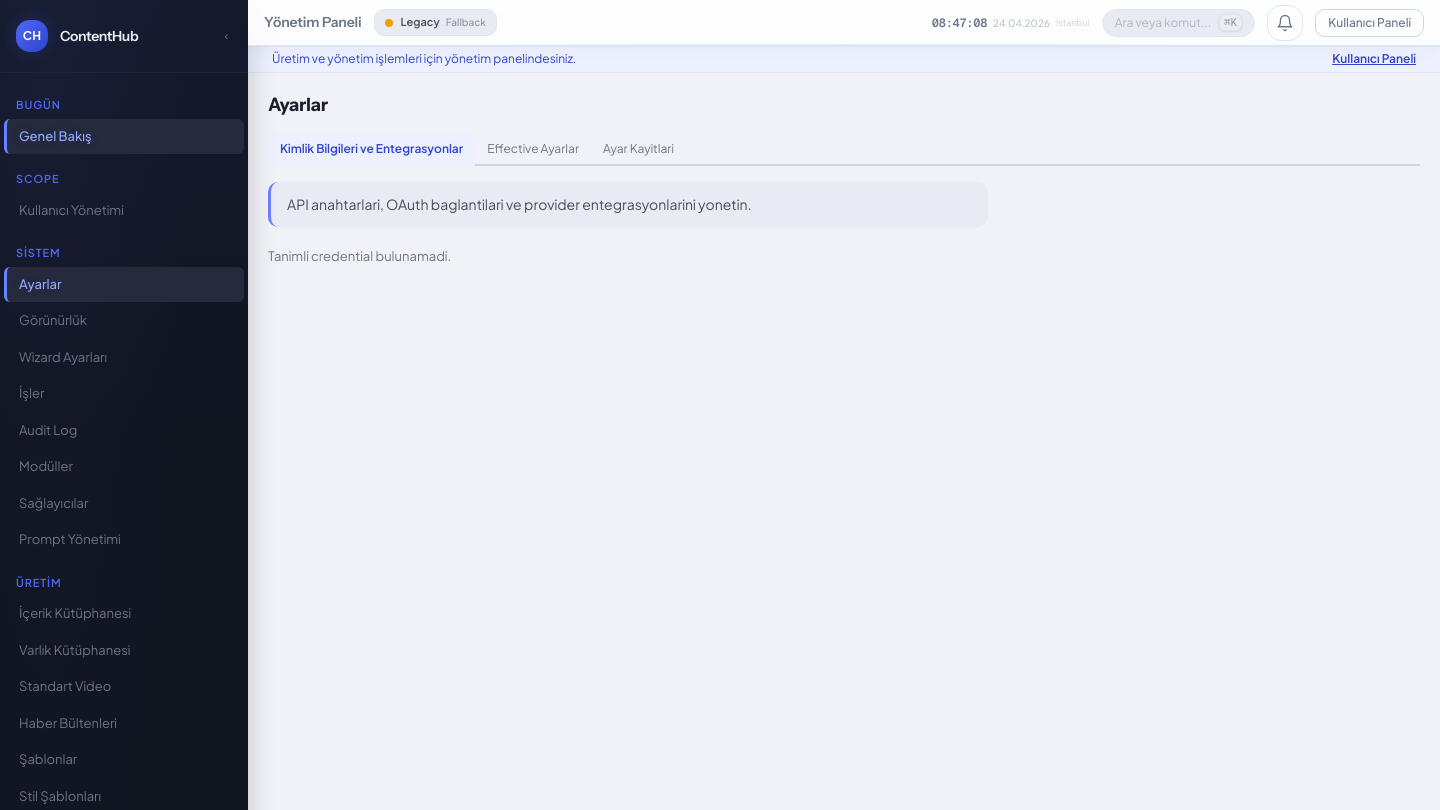
Test: Phase 305 — Settings Registry heading and workflow note › subtitle changes to governance text after switching to registry tab
Click the button with test id "settings-tab-registry": (638, 149) [591,132,686,166]
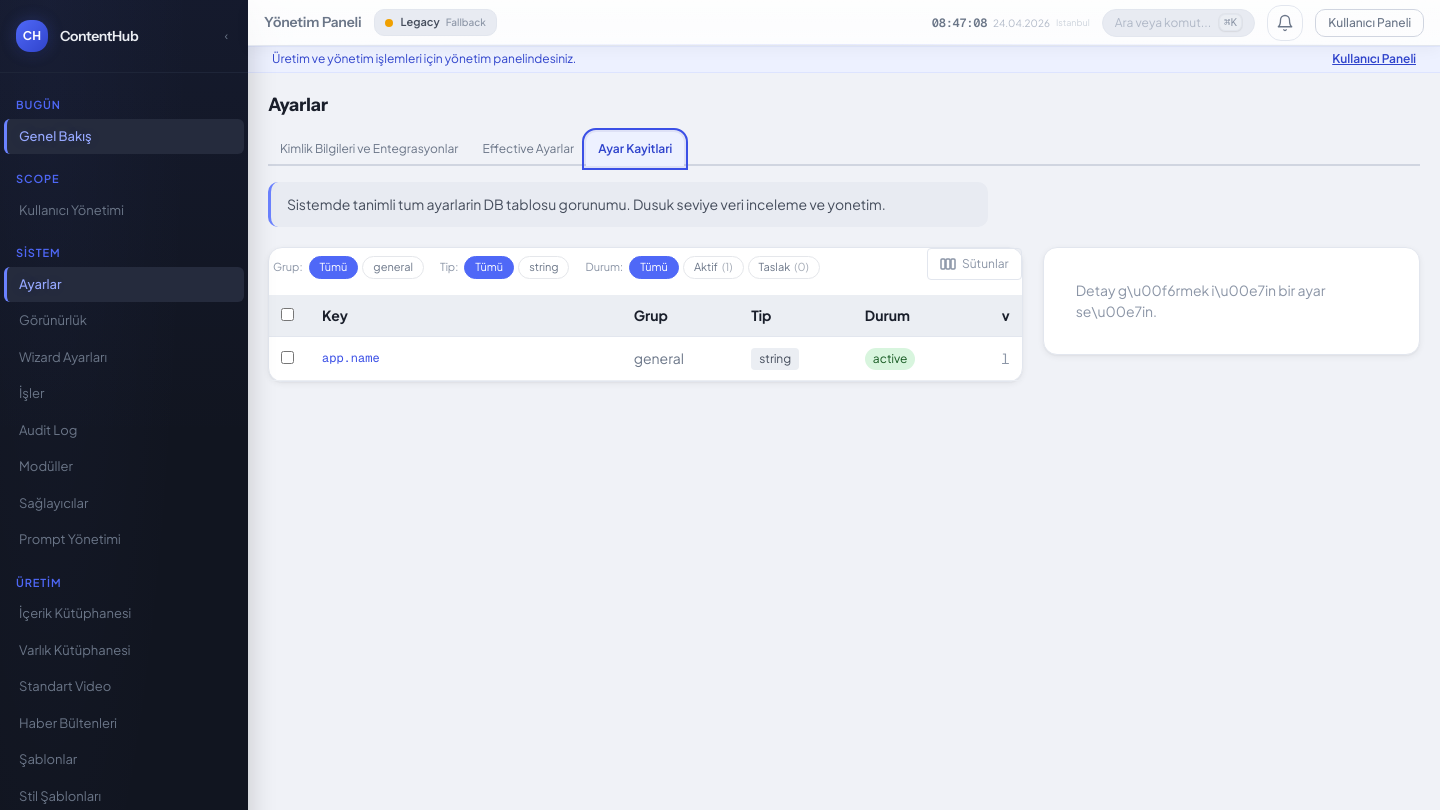
Expected: the element with test id "settings-registry-subtitle" shows "DB tablosu", [287,195,886,213]
